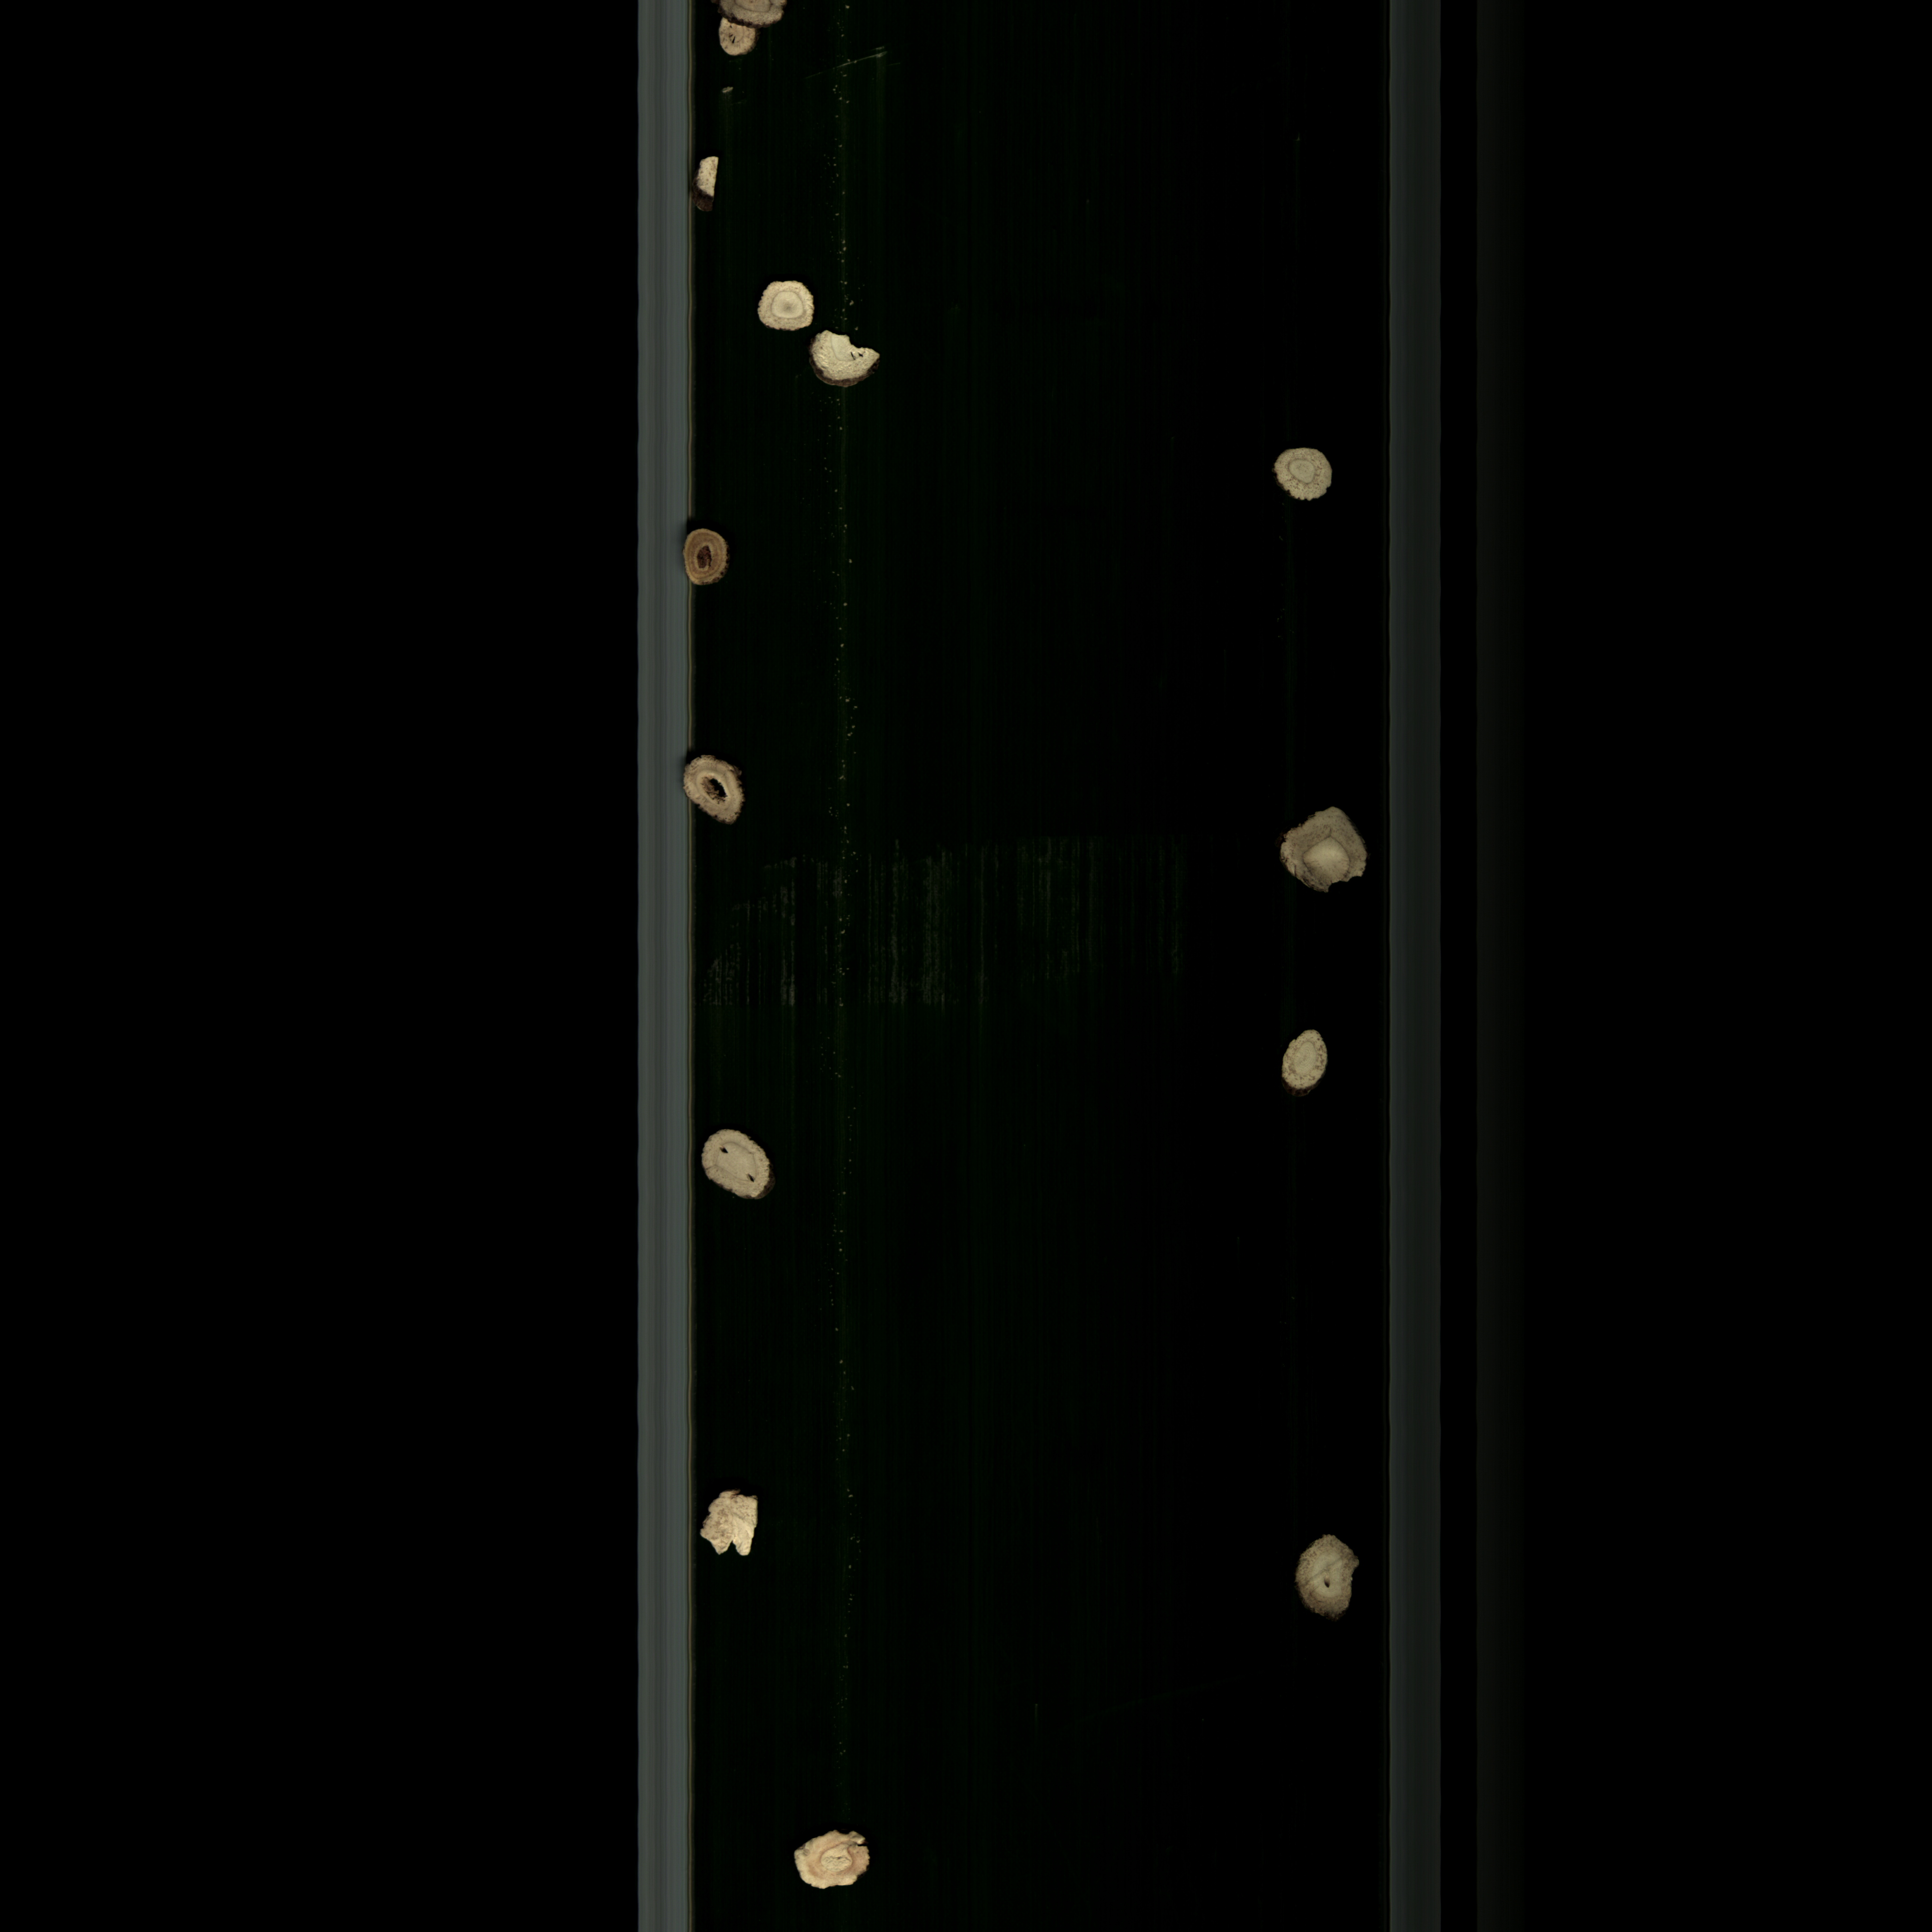debris: (697, 1483, 766, 1573), (807, 327, 886, 395)
dreg: (685, 150, 725, 218)
hole: (701, 1120, 773, 1207)
moldy: (1270, 803, 1378, 902), (1286, 1532, 1362, 1629), (780, 1828, 885, 1897), (679, 750, 755, 830), (676, 522, 741, 593), (709, 14, 761, 60)
